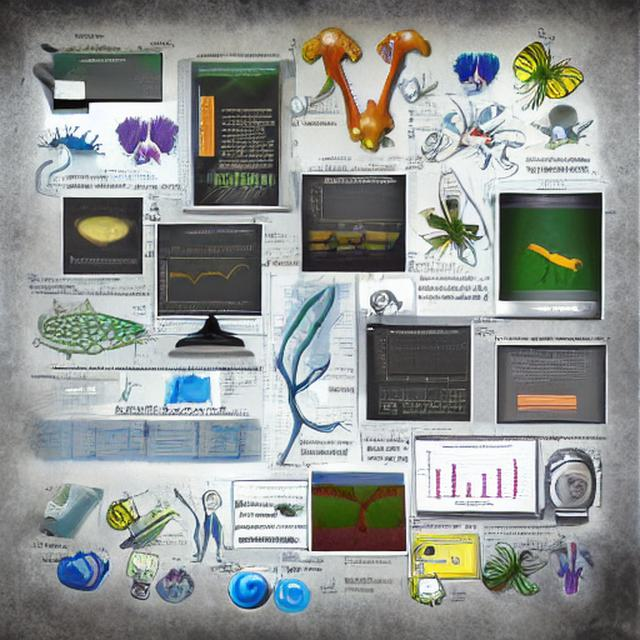Graph: (416, 444, 526, 505), (307, 174, 406, 232), (157, 254, 249, 312), (377, 328, 471, 384), (205, 158, 278, 206)
